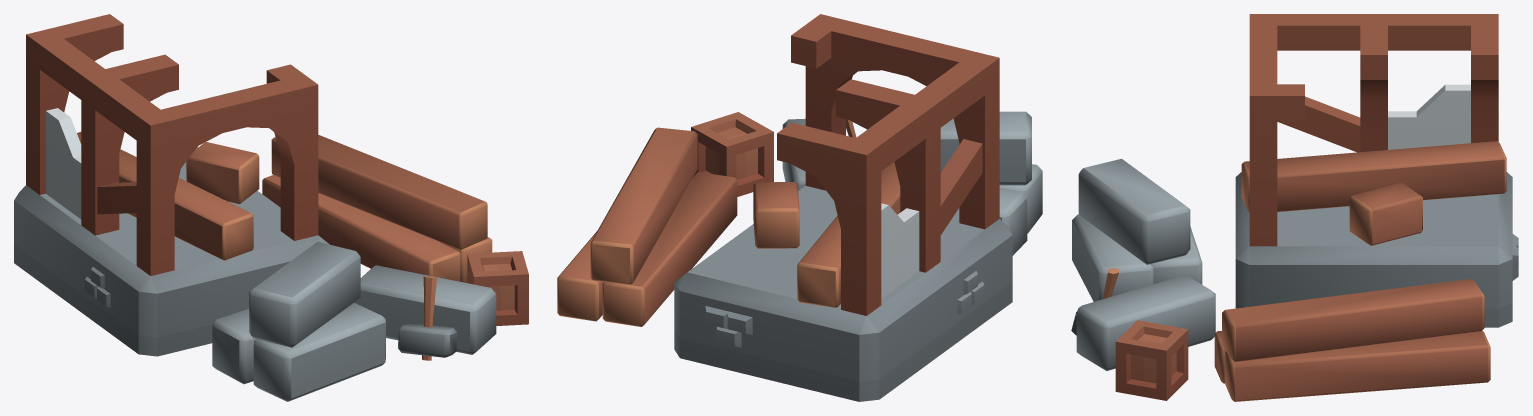
The model's file is building_stage_b.glb.
The picture shows the model from 3 angles, left to right: view 1: azimuth 30°, elevation 25°; view 2: azimuth 150°, elevation 25°; view 3: azimuth 270°, elevation 25°; orthographic projection. The views are drawn at different scales.
Parts seen in each view (by area): view 1: building_stage_B; view 2: building_stage_B; view 3: building_stage_B.
Part boxes in pixels (bbox=[...]): building_stage_B: bbox=[14, 14, 528, 401]; building_stage_B: bbox=[557, 14, 1042, 401]; building_stage_B: bbox=[1071, 14, 1518, 401].
Size of the model in its own units: 1.02 by 0.6359 by 1.13.
Materials: 1 (1 with a texture image).
